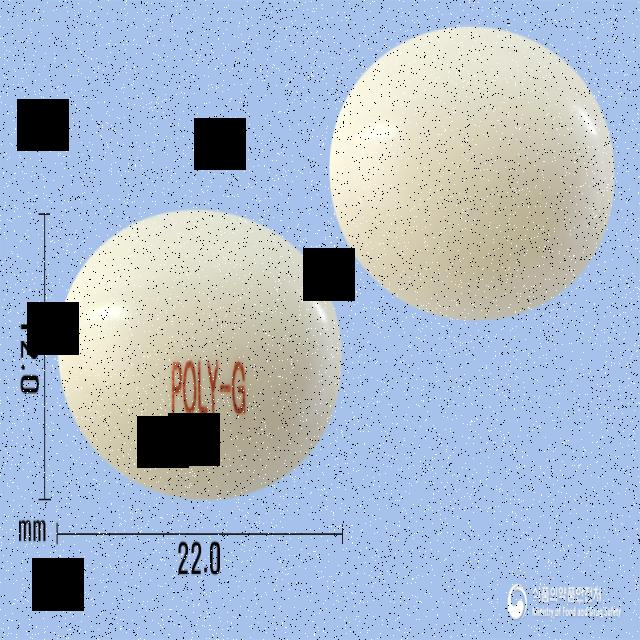Poly G Vaginal Soft Cap: (59, 205, 342, 500)
